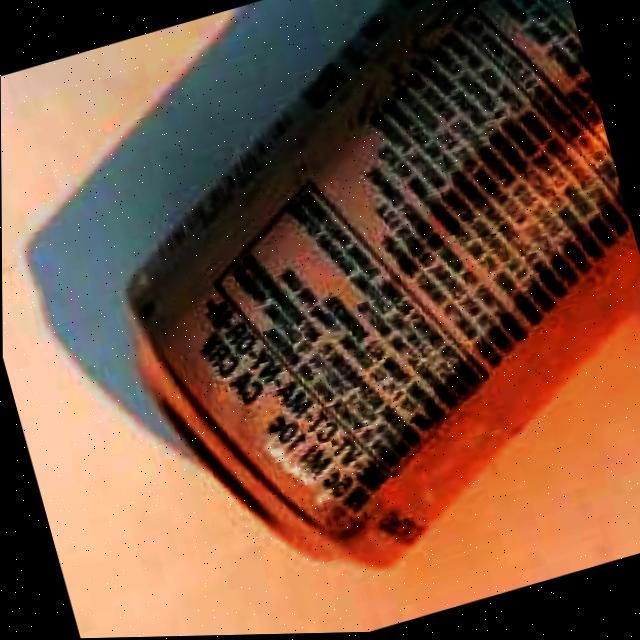Lata: (129, 0, 640, 563)
